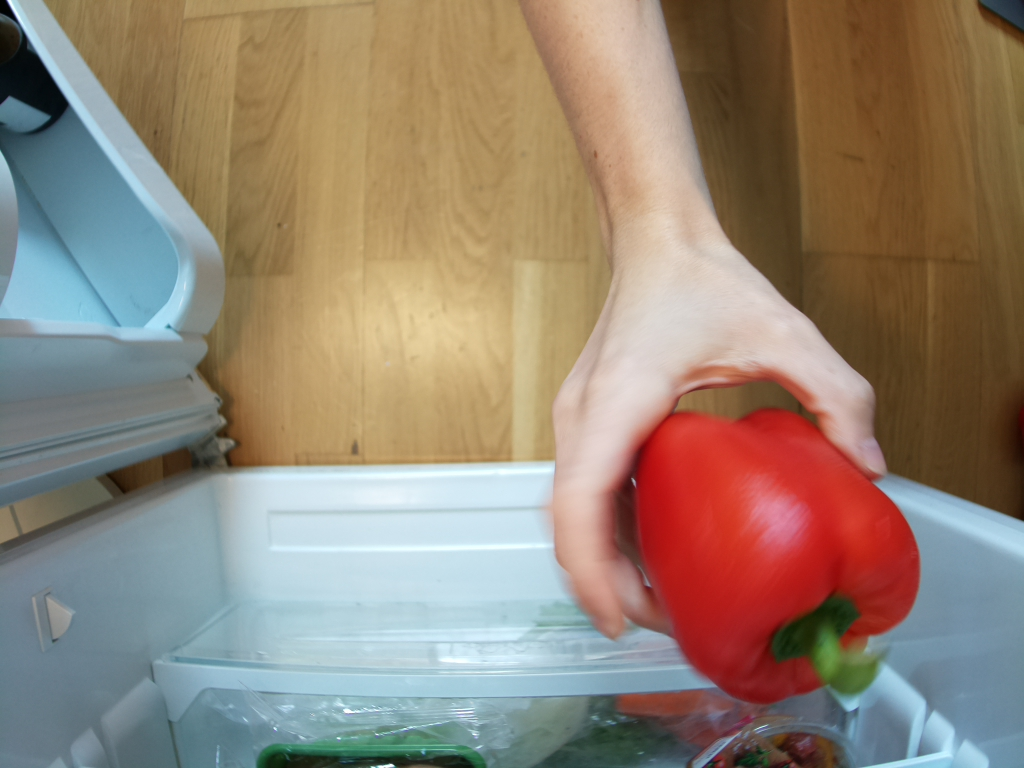pepper-bad: (629, 397, 922, 721)
